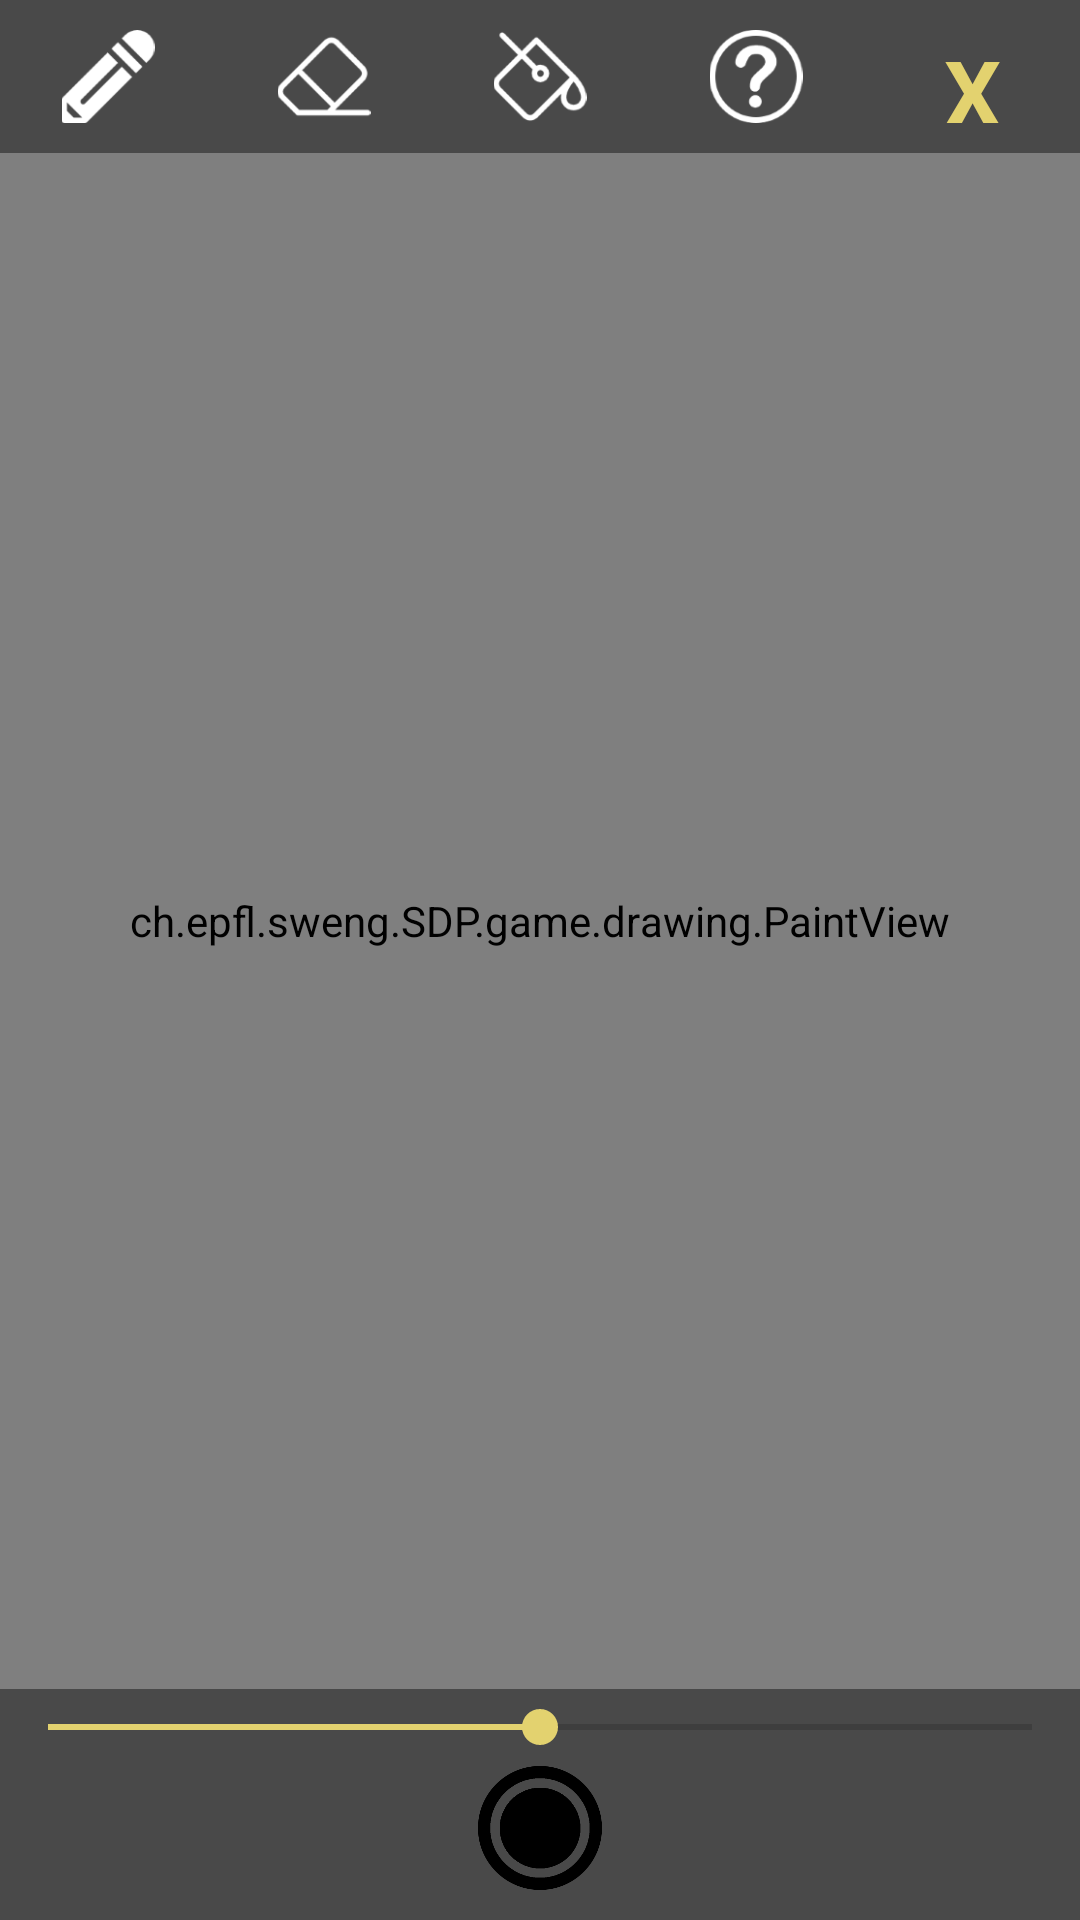

Where icons sit on this 1080*1920 app screen, as (x1, y1, x2, y2):
bucket: (494, 32, 587, 121)
eraser: (278, 37, 371, 116)
mystery mode: (710, 30, 803, 123)
